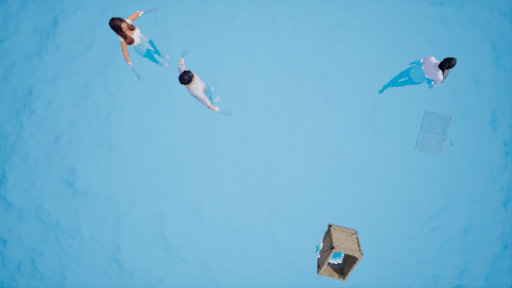person: (109, 9, 178, 69), (382, 52, 455, 100), (174, 57, 229, 115)
